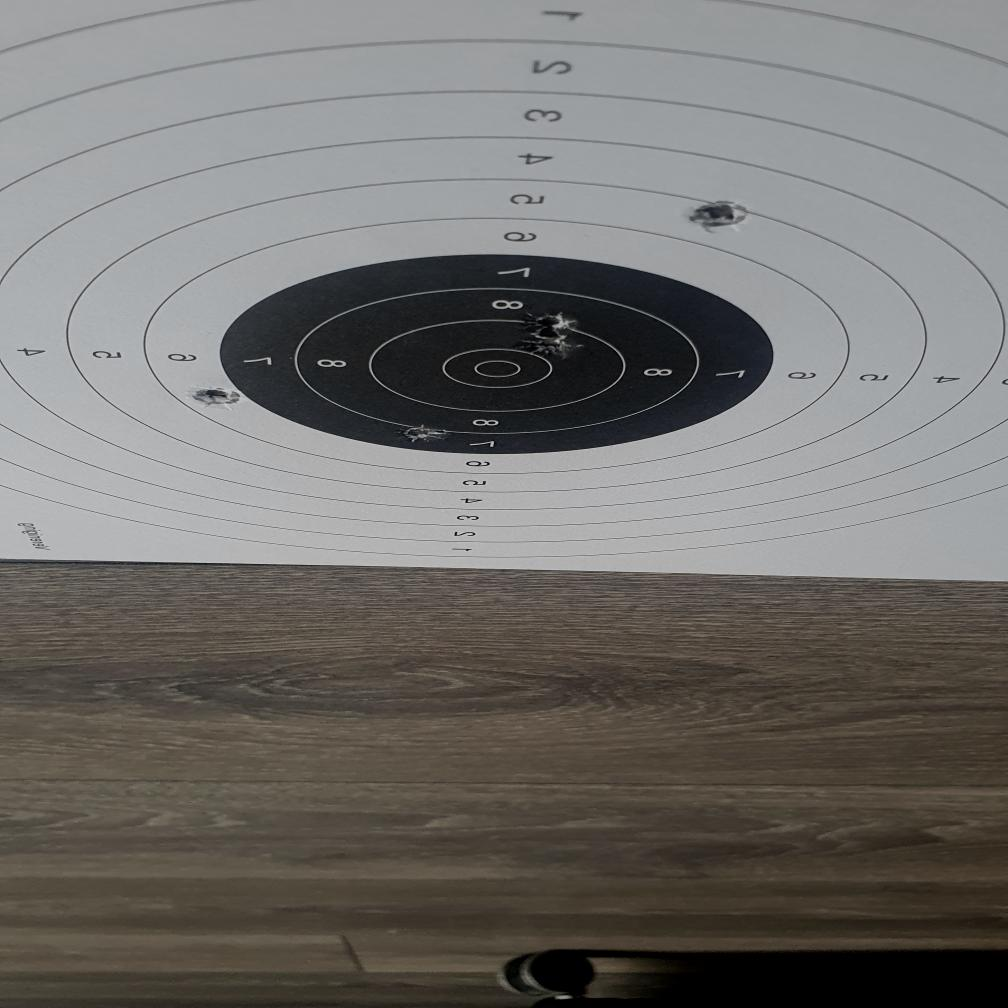5: (690, 201, 750, 230)
6: (183, 386, 243, 410)
8: (392, 423, 450, 444)
9: (518, 335, 578, 358), (524, 310, 576, 334)
Target: (2, 0, 1008, 562)
black_contour: (218, 254, 775, 453)
